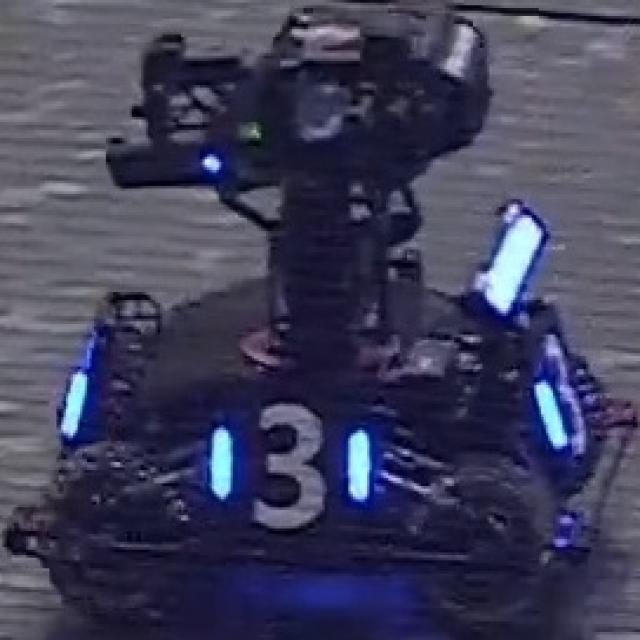B3: (207, 398, 372, 526)
